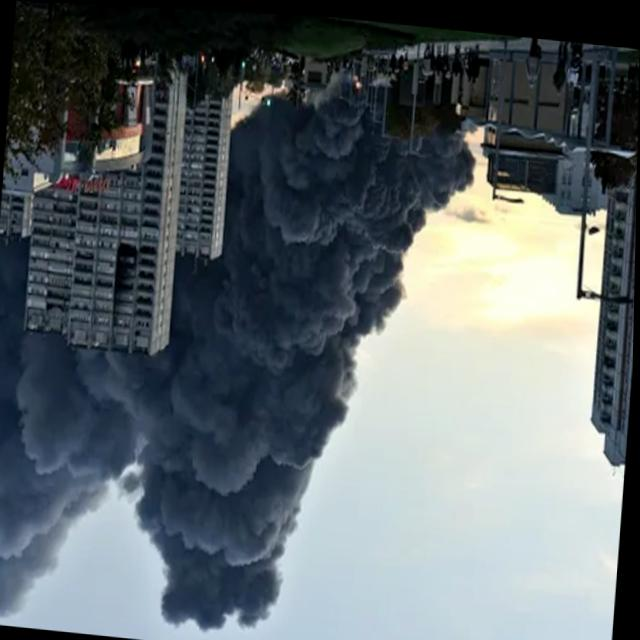no_helmet: (196, 90, 480, 640), (0, 238, 219, 626)
